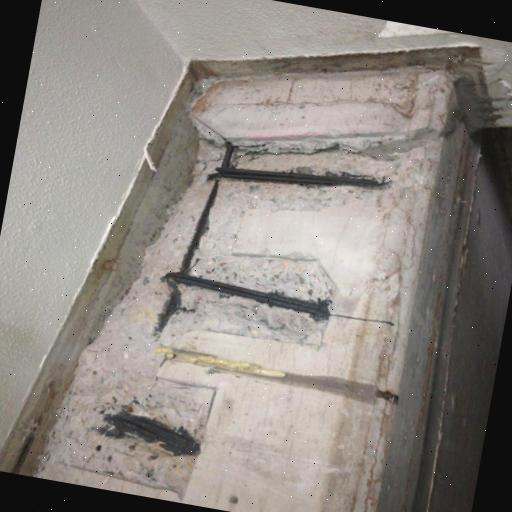spalling: (172, 129, 404, 341), (53, 361, 210, 483)
